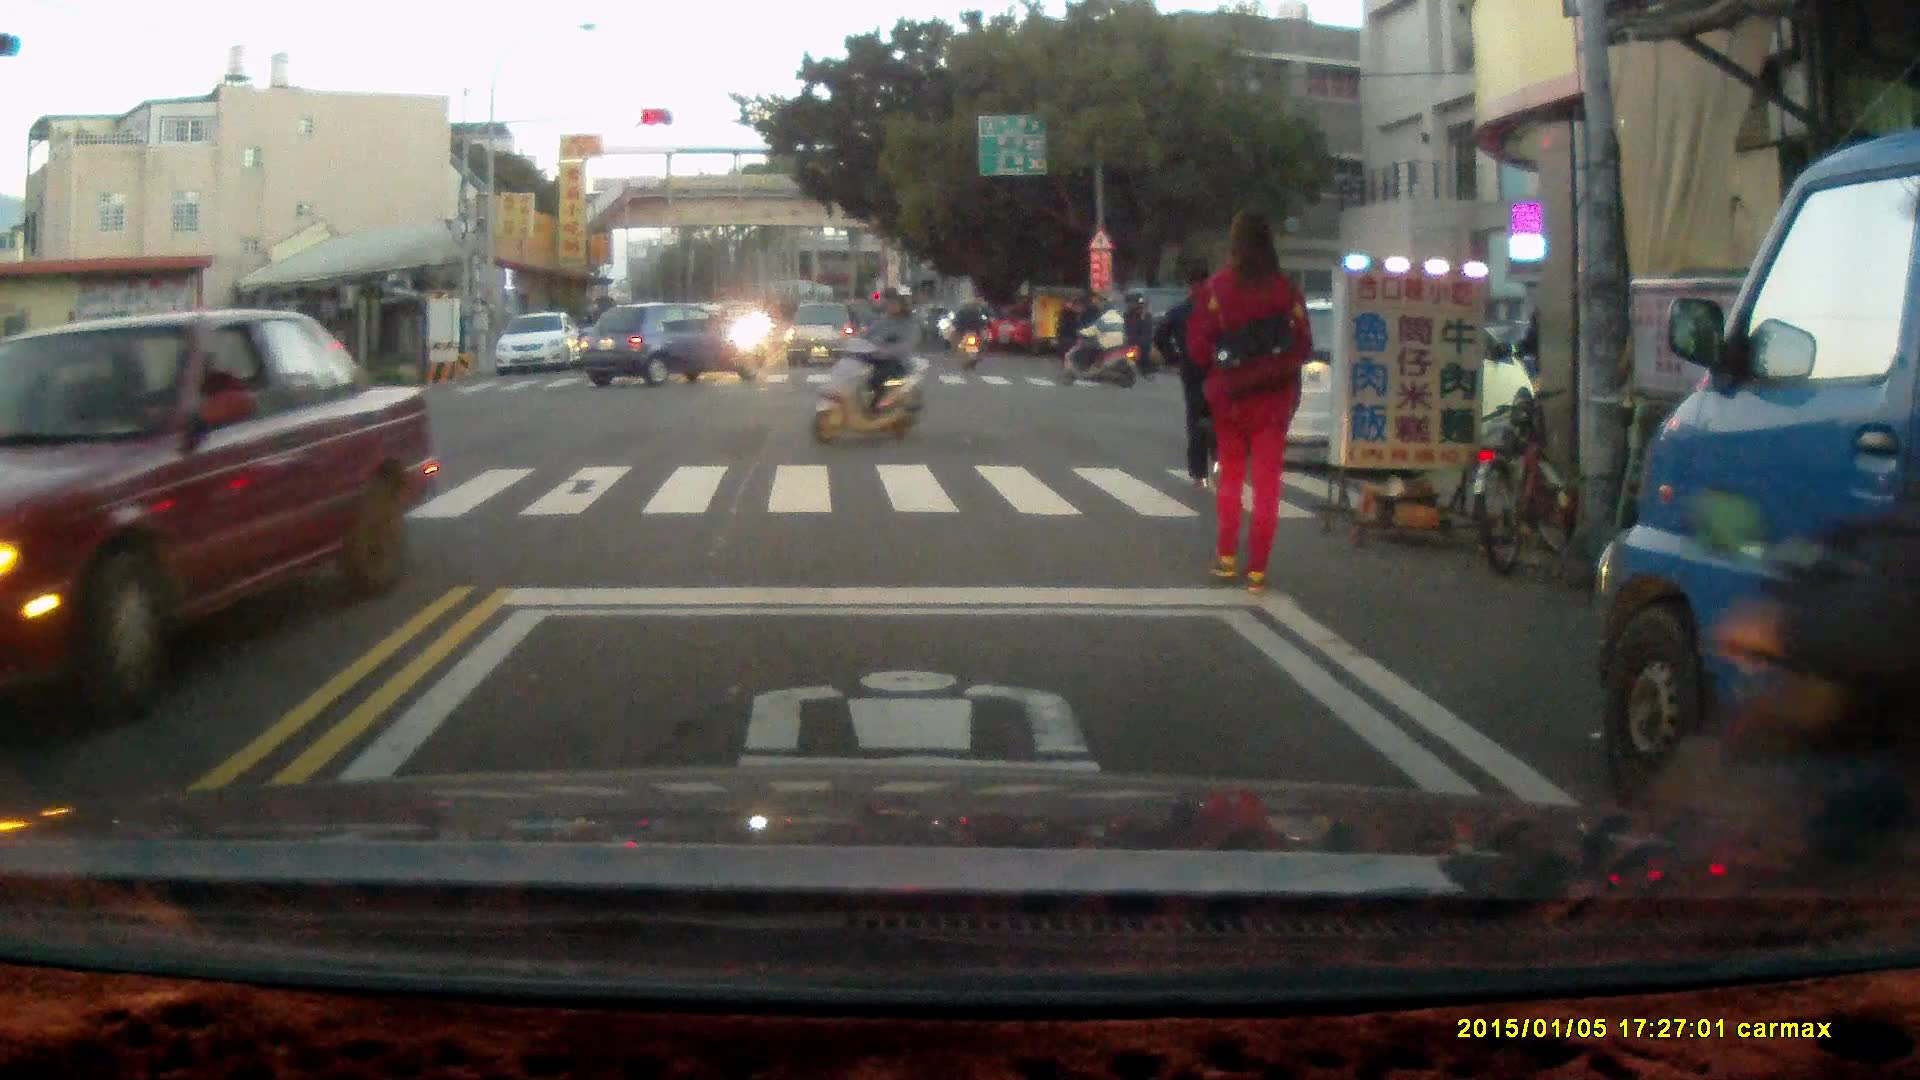pedestrian: (1181, 211, 1315, 594), (1160, 259, 1248, 491), (1517, 299, 1550, 398), (1052, 294, 1082, 379), (1124, 299, 1154, 380)
rider: (1649, 481, 1920, 917), (810, 285, 937, 447), (1057, 297, 1140, 388), (947, 292, 988, 372)
vehicle: (1598, 132, 1920, 876), (1, 310, 434, 744), (1233, 296, 1533, 459), (585, 304, 771, 390), (786, 301, 868, 375), (498, 313, 586, 377)
